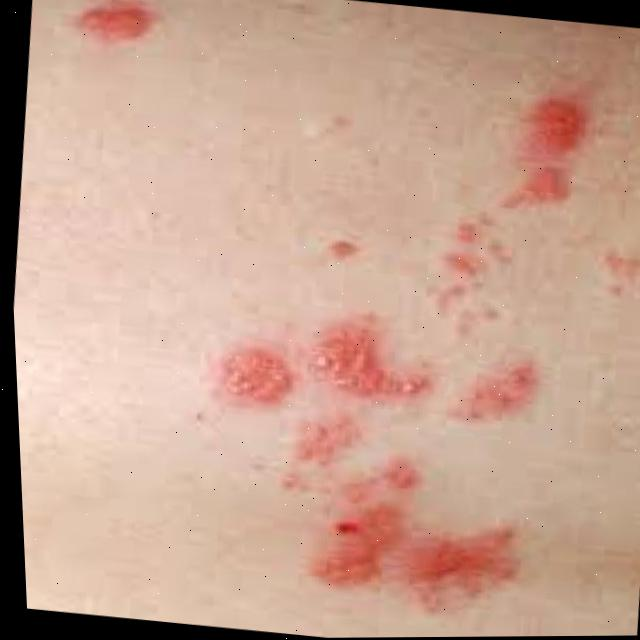Shingles: (205, 330, 534, 596), (502, 90, 591, 211), (82, 7, 152, 36)
